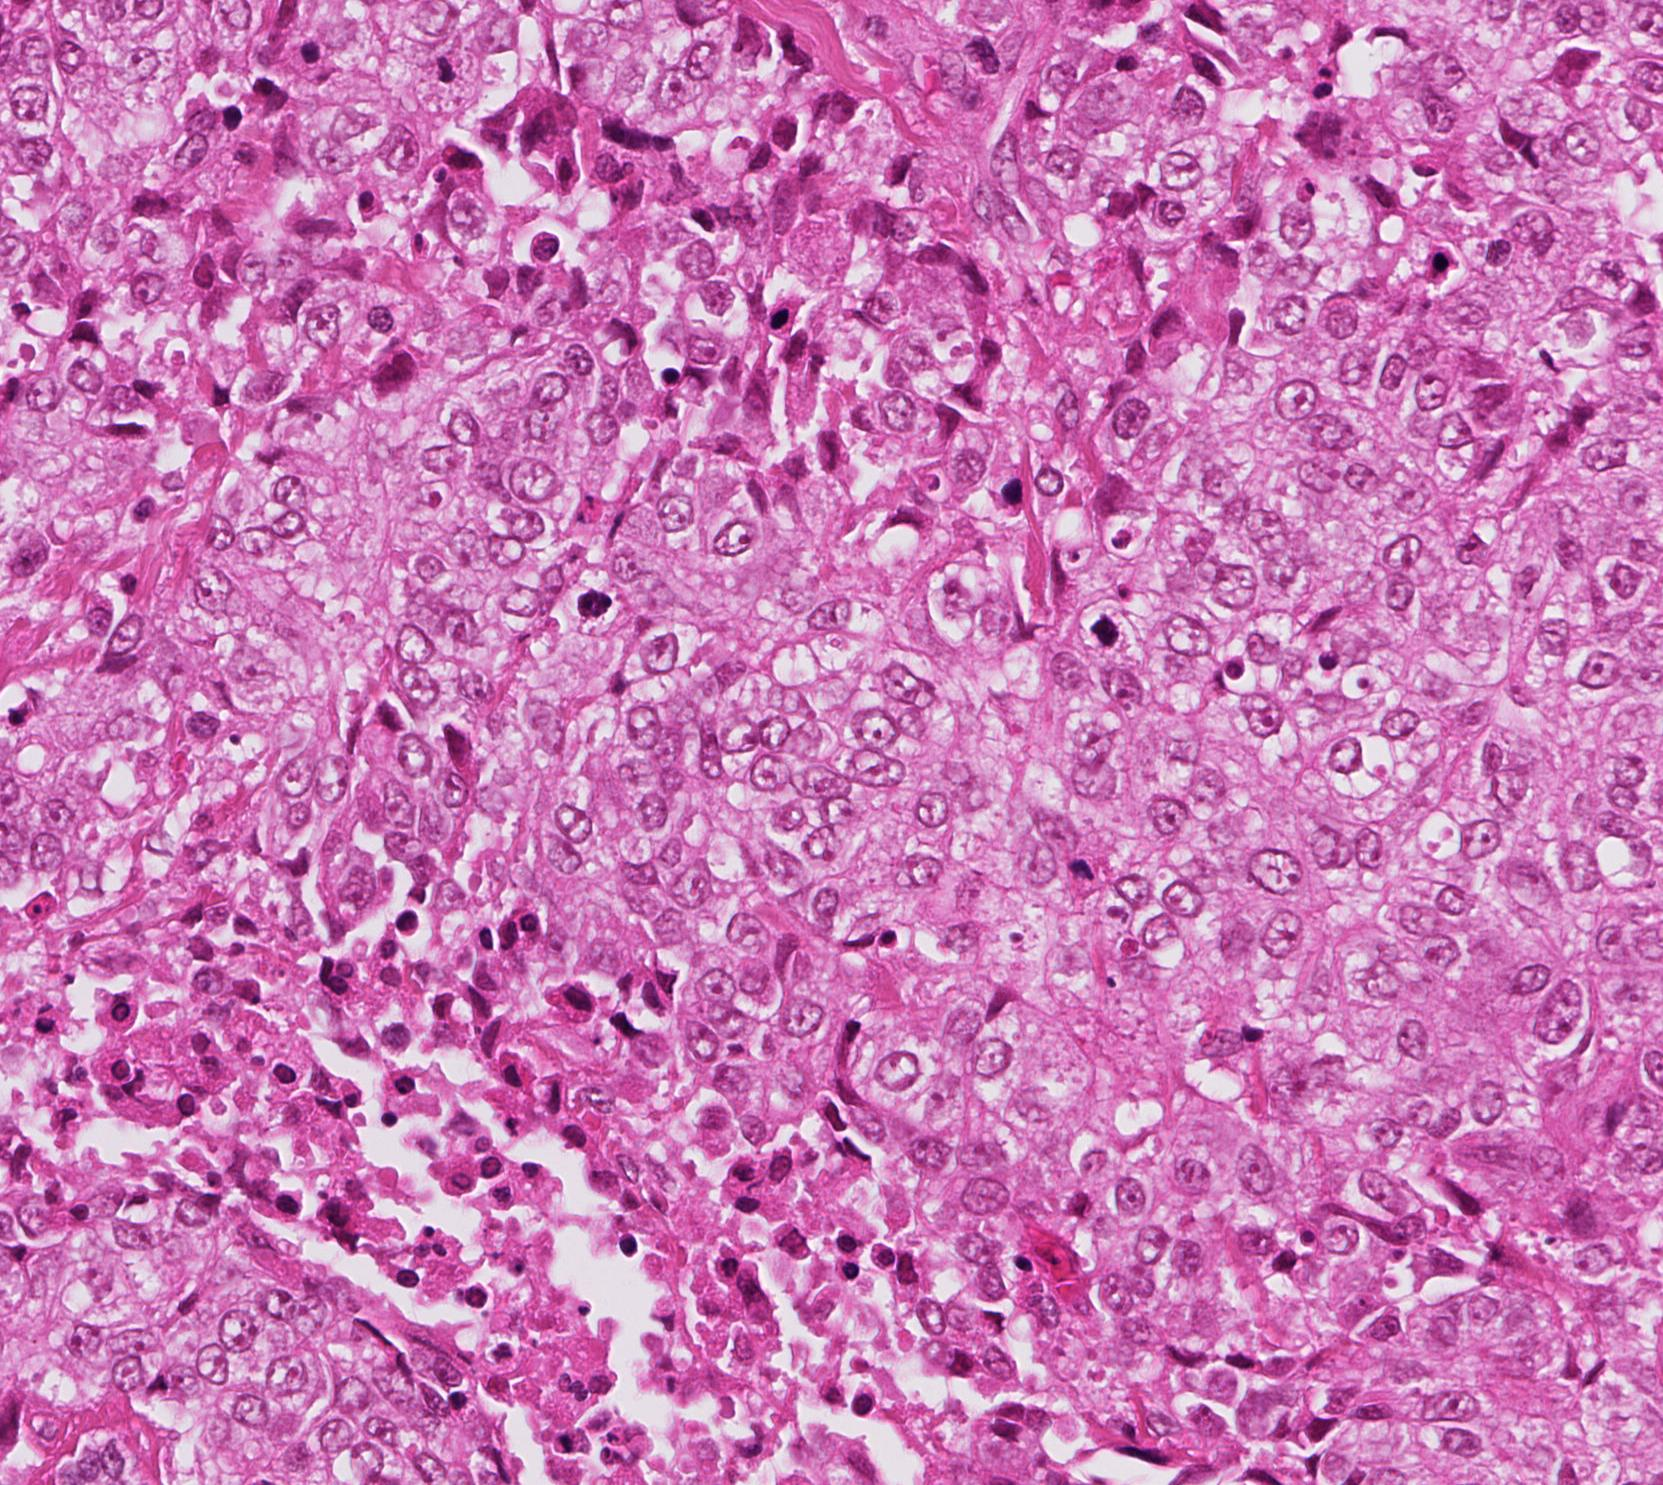mitosis: (1069, 596, 1130, 656), (566, 569, 626, 629)
